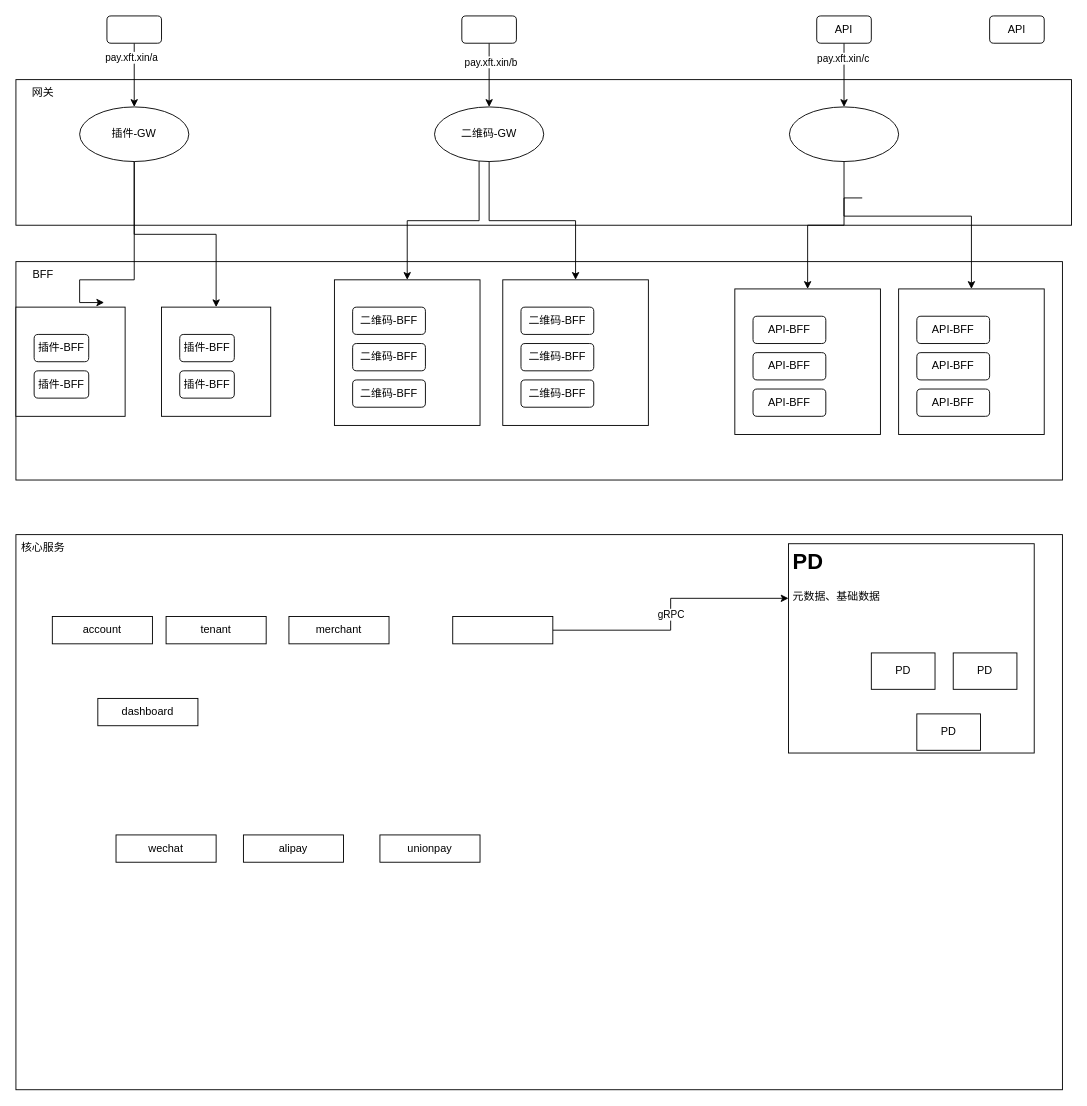
The diagram is 1087 pixels wide and 1106 high, and some of its shapes have lost their labels. The shapes that lost their labels are listed below. From the top down, each one's centre as x and y in pixels, then its label:
At [134,29]: "插件".
At [488,29]: "二维码".
At [844,134]: "API-GW".
At [502,630]: "transaction".
